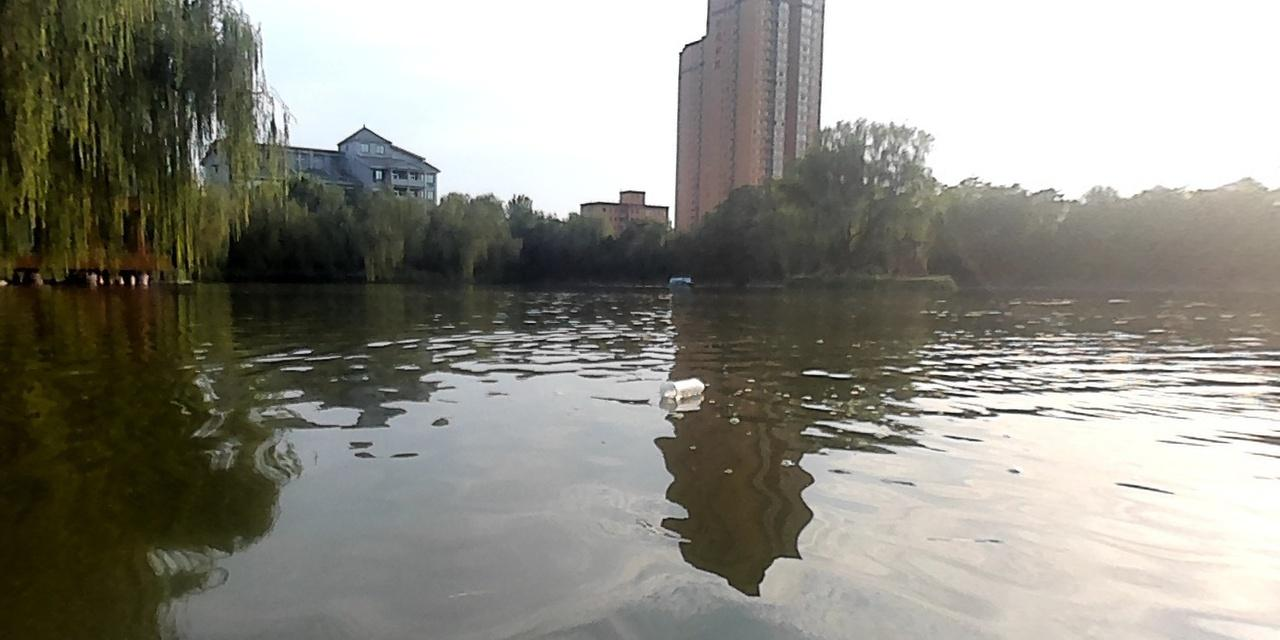bottle: (657, 374, 707, 404)
